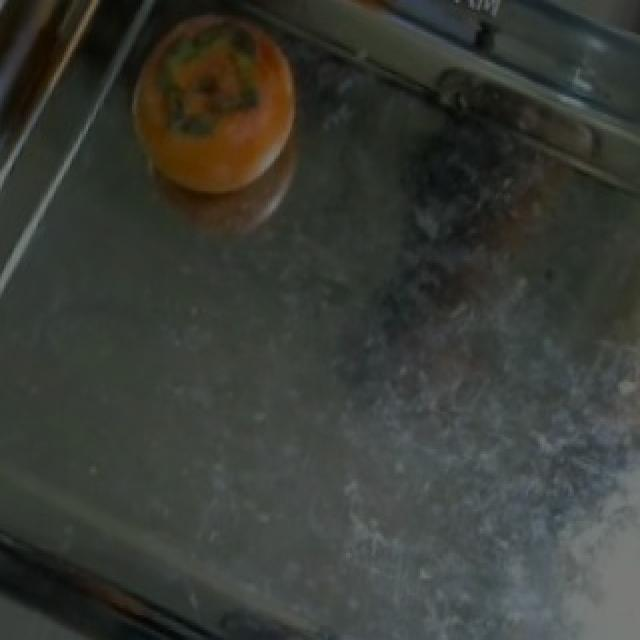Fruit: (108, 0, 330, 223)
